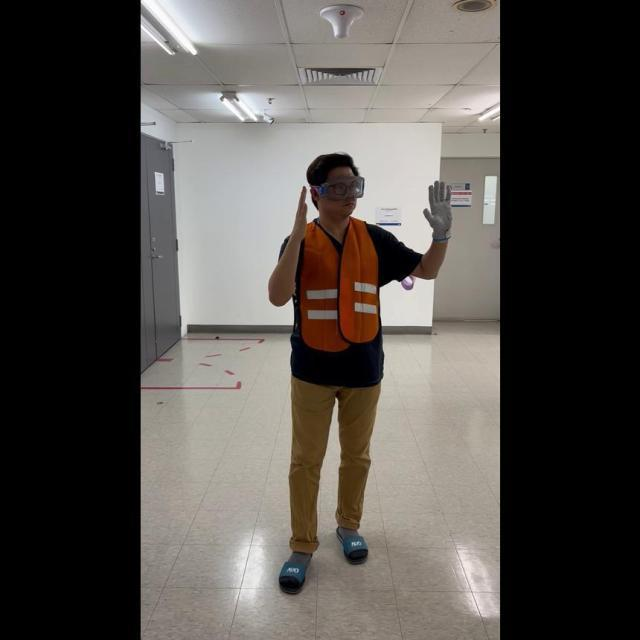bare_hand: (289, 182, 309, 241)
gloved_hand: (420, 178, 453, 240)
